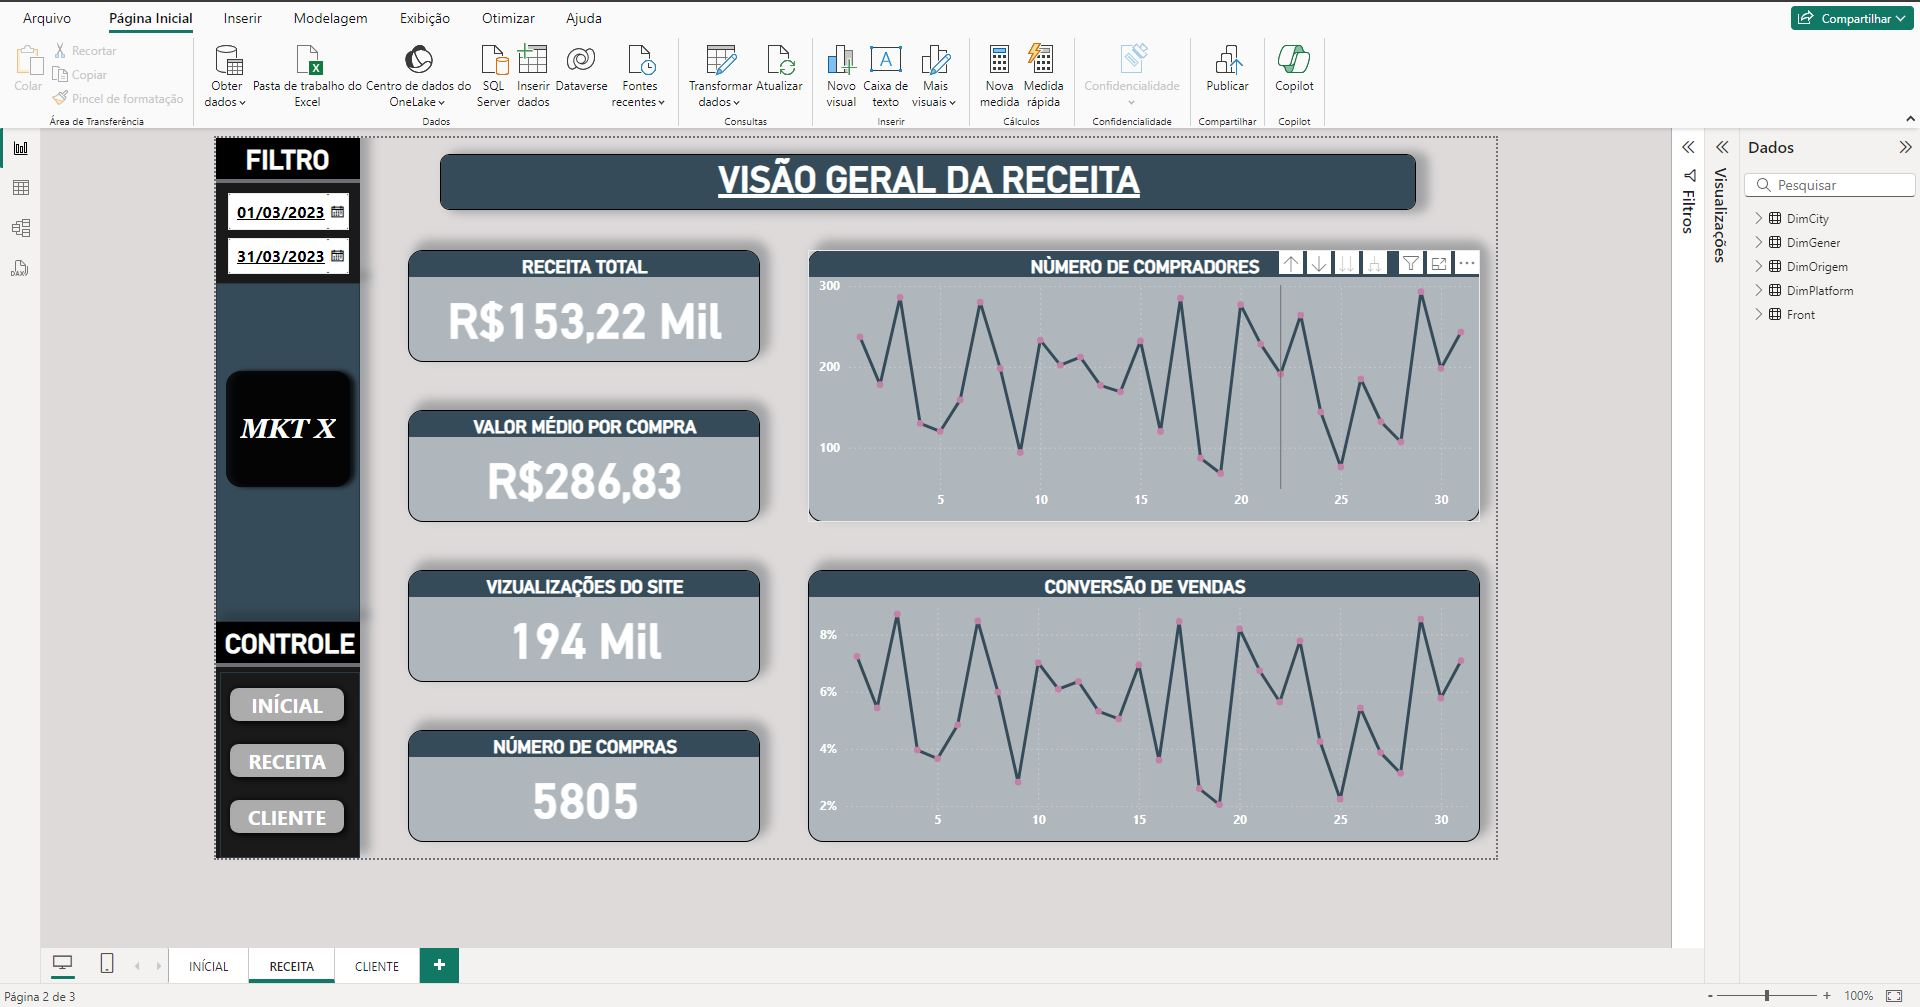

Layout of this report page (visuals, bound fields, positions):
{"tool":"powerbi","page":{"name":"RECEITA","canvas":[1280,720],"ordinal":1},"visuals":[{"type":"card","title":"RECEITA TOTAL","fields":{"Values":["Sum(Front.Receita Total)"]},"box":[192,112,352,112],"z":0},{"type":"card","title":"VALOR MÉDIO POR COMPRA","fields":{"Values":["Avg(Front.Receita Média por Compra)"]},"box":[192,272,352,112],"z":1000},{"type":"card","title":"VIZUALIZAÇÕES DO SITE","fields":{"Values":["Sum(Front.Visualizações na Página)"]},"box":[192,432,352,112],"z":2000},{"type":"card","title":"NÚMERO DE COMPRAS","fields":{"Values":["Sum(Front.Número de Compradores)"]},"box":[192,592,352,112],"z":3000},{"type":"lineChart","title":"CONVERSÃO DE VENDAS","fields":{"Y":["Avg(Front.Personalizar)"],"Category":["Front.Data.Variation.Hierarquia de datas.Dia"]},"box":[592,432,672,272],"z":4000},{"type":"lineChart","title":"NÙMERO DE COMPRADORES","fields":{"Category":["Front.Data.Variation.Hierarquia de datas.Mês","Front.Data.Variation.Hierarquia de datas.Dia"],"Y":["Sum(Front.Número de Compradores)"]},"box":[592,112,672,272],"z":5000},{"type":"shape","box":[0,145.5,143.6,338.2],"z":6000},{"type":"slicer","title":"FILTRO","fields":{"Values":["Front.Data"]},"box":[0,0,143.6,145.4],"z":7000},{"type":"shape","title":"CONTROLE","box":[0,483.6,143.6,236.4],"z":8000},{"type":"textbox","title":"VISÃO GERAL DA RECEITA","box":[224,16,976,56],"z":9000},{"type":"shape","box":[0,223.4,143.6,135.7],"z":12001},{"type":"shape","box":[5.3,540.9,132.1,51.4],"z":12002},{"type":"shape","box":[5.3,596.7,132.1,51.4],"z":12003},{"type":"shape","box":[5.3,652.6,132.1,51.4],"z":12004}]}

Visuals, with their boxes on the page's 1280x720 design canvas (x1, y1, x2, y2). These are canvas units, not pixel positions in the 1920x1007 screenshot, which may show the page scaled, cropped or inside an application window:
"RECEITA TOTAL" card: (left=192, top=112, right=544, bottom=224)
"VALOR MÉDIO POR COMPRA" card: (left=192, top=272, right=544, bottom=384)
"VIZUALIZAÇÕES DO SITE" card: (left=192, top=432, right=544, bottom=544)
"NÚMERO DE COMPRAS" card: (left=192, top=592, right=544, bottom=704)
"CONVERSÃO DE VENDAS" lineChart: (left=592, top=432, right=1264, bottom=704)
"NÙMERO DE COMPRADORES" lineChart: (left=592, top=112, right=1264, bottom=384)
shape: (left=0, top=146, right=144, bottom=484)
"FILTRO" slicer: (left=0, top=0, right=144, bottom=145)
"CONTROLE" shape: (left=0, top=484, right=144, bottom=720)
"VISÃO GERAL DA RECEITA" textbox: (left=224, top=16, right=1200, bottom=72)
shape: (left=0, top=223, right=144, bottom=359)
shape: (left=5, top=541, right=137, bottom=592)
shape: (left=5, top=597, right=137, bottom=648)
shape: (left=5, top=653, right=137, bottom=704)
